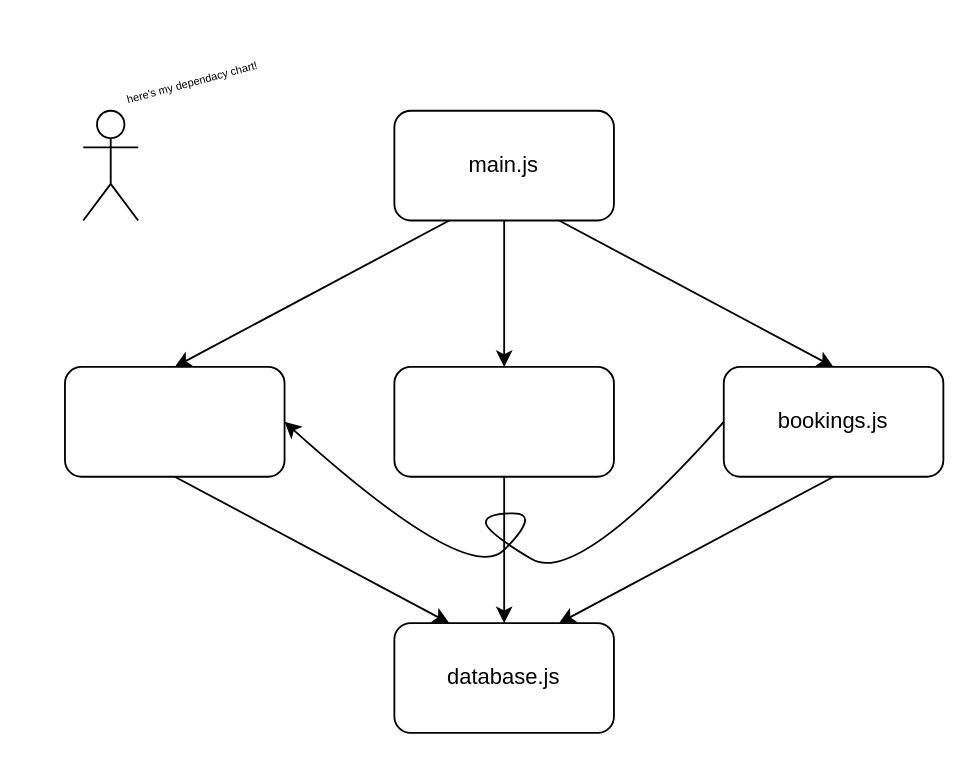
Some shapes in this 975 by 765 pixel diagram are drawn without their labels. The shapes that lost their labels are listed below. From the top down, each one's box as (x1, y1, x2, y2) in pixels, then its label:
(63, 365, 285, 477): bands.js
(393, 365, 614, 477): venue.js
